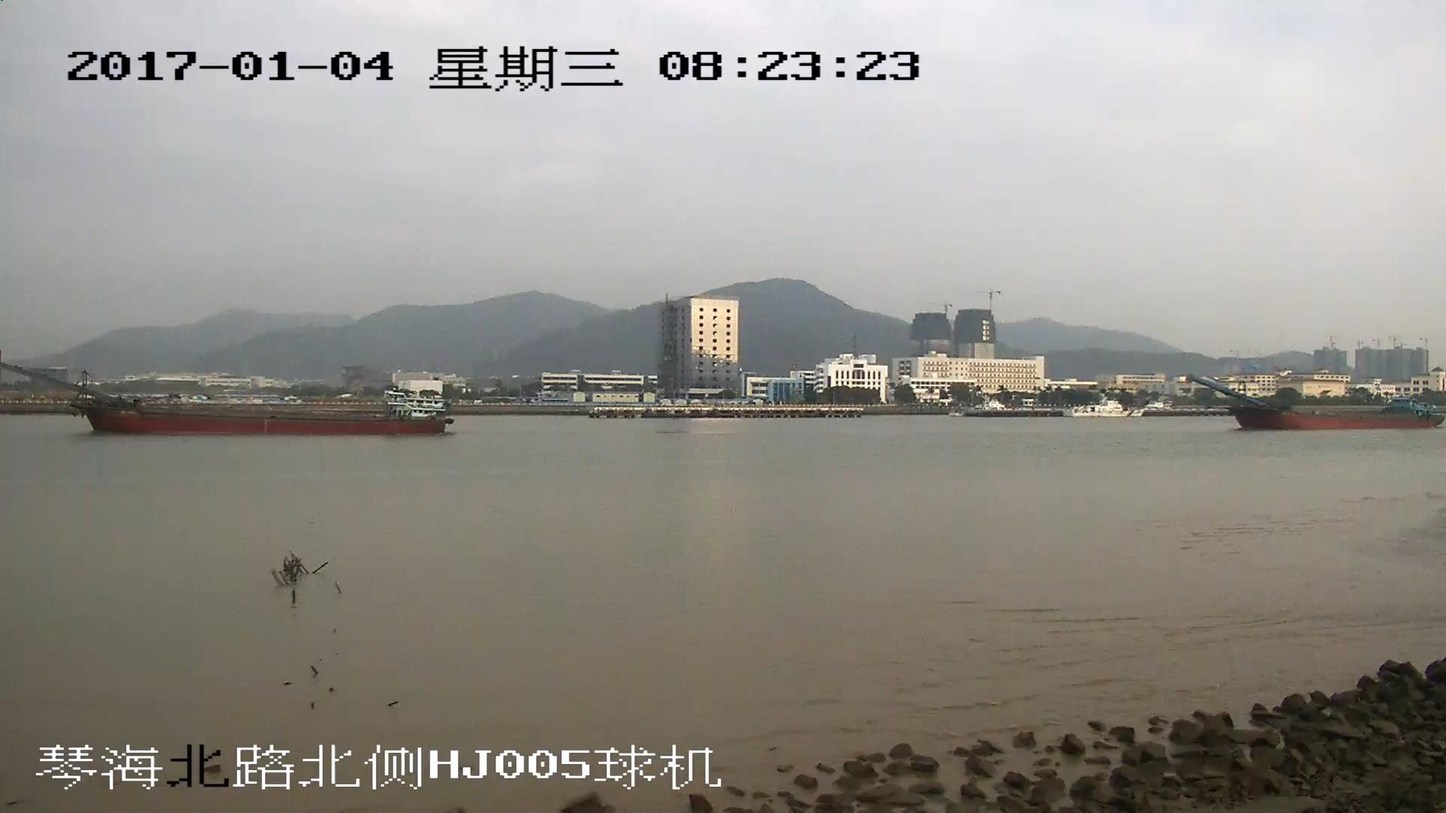bulk cargo carrier: (0, 364, 452, 434), (1188, 374, 1445, 428)
